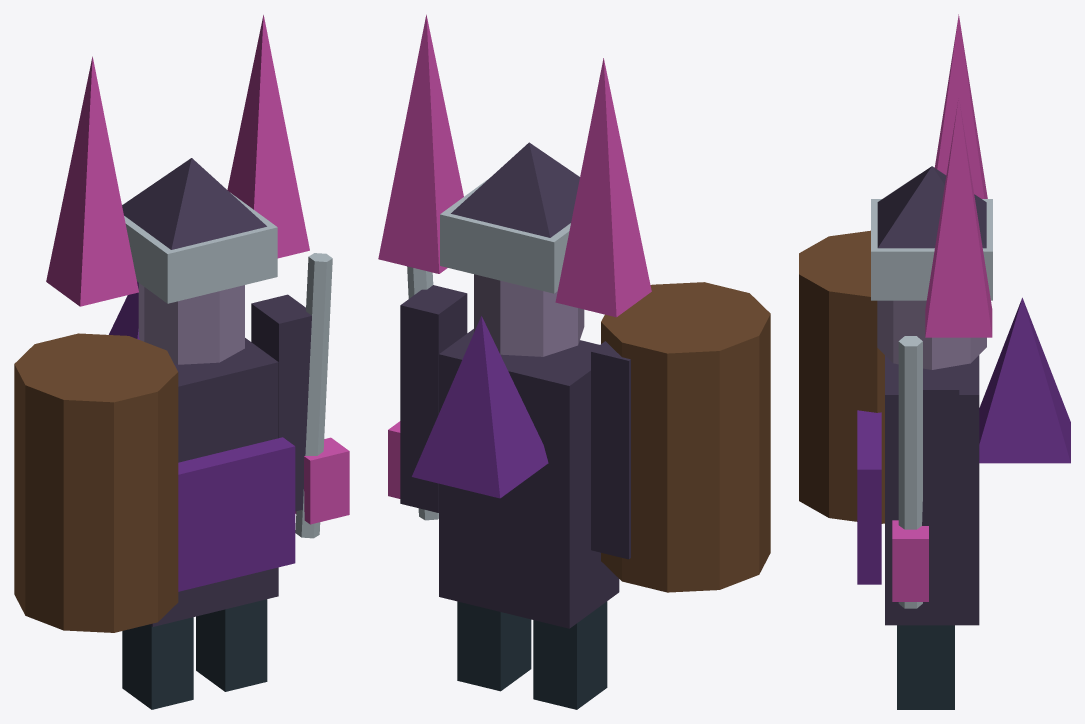
Rendered from infantry.obj.
3 renders of one model, left to right at view 1: azimuth 30°, elevation 25°; view 2: azimuth 150°, elevation 25°; view 3: azimuth 270°, elevation 25°, orthographic. The views are drawn at different scales.
Parts seen in each view (by area): view 1: infantry; view 2: infantry; view 3: infantry.
Part boxes in pixels (bbox=[...]): infantry: bbox=[14, 15, 349, 709]; infantry: bbox=[378, 14, 770, 709]; infantry: bbox=[799, 14, 1070, 709].
Bounding box in the file's own units: 1.13 × 2.07 × 0.8125.
